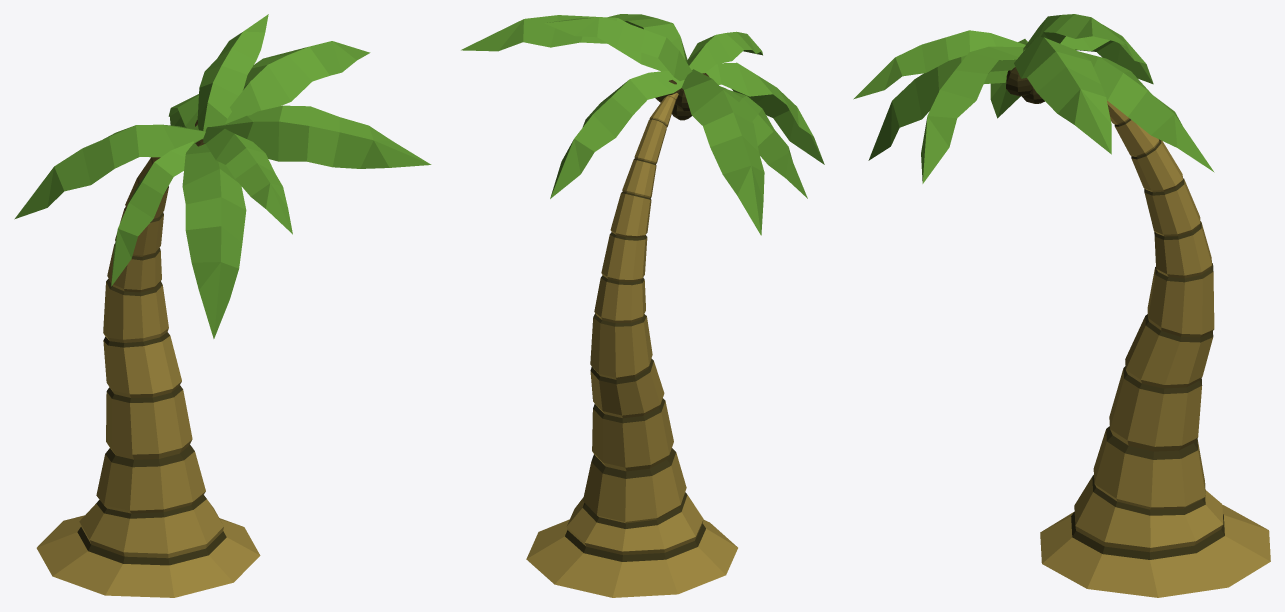
Rendered from palm.glb.
3 views of the same model, side by side, from view 1: azimuth 30°, elevation 25°; view 2: azimuth 150°, elevation 25°; view 3: azimuth 270°, elevation 25° (orthographic). The views are drawn at different scales.
Parts seen in each view (by area): view 1: Circle.002; view 2: Circle.002; view 3: Circle.002.
Part boxes in pixels (box(x1,y1,x2,y2)): Circle.002: box(14, 14, 431, 597); Circle.002: box(461, 14, 824, 597); Circle.002: box(853, 14, 1270, 597).
Bounding box in the file's own units: 828 × 1237 × 831.
